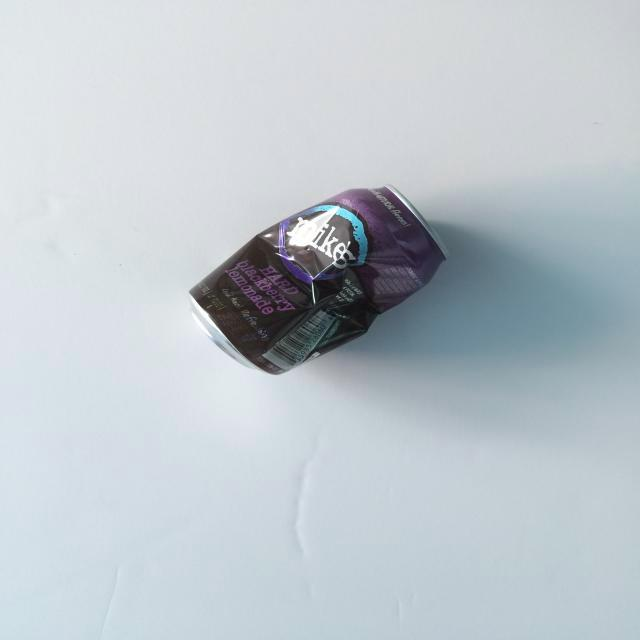metal: (174, 178, 480, 381)
